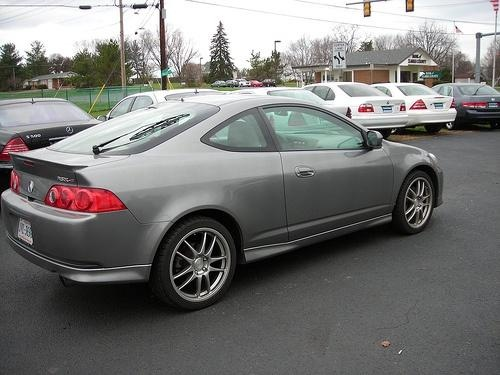car: (2, 94, 444, 312), (1, 95, 106, 172), (311, 85, 408, 140), (373, 83, 458, 135), (97, 89, 222, 120), (432, 83, 500, 131)
